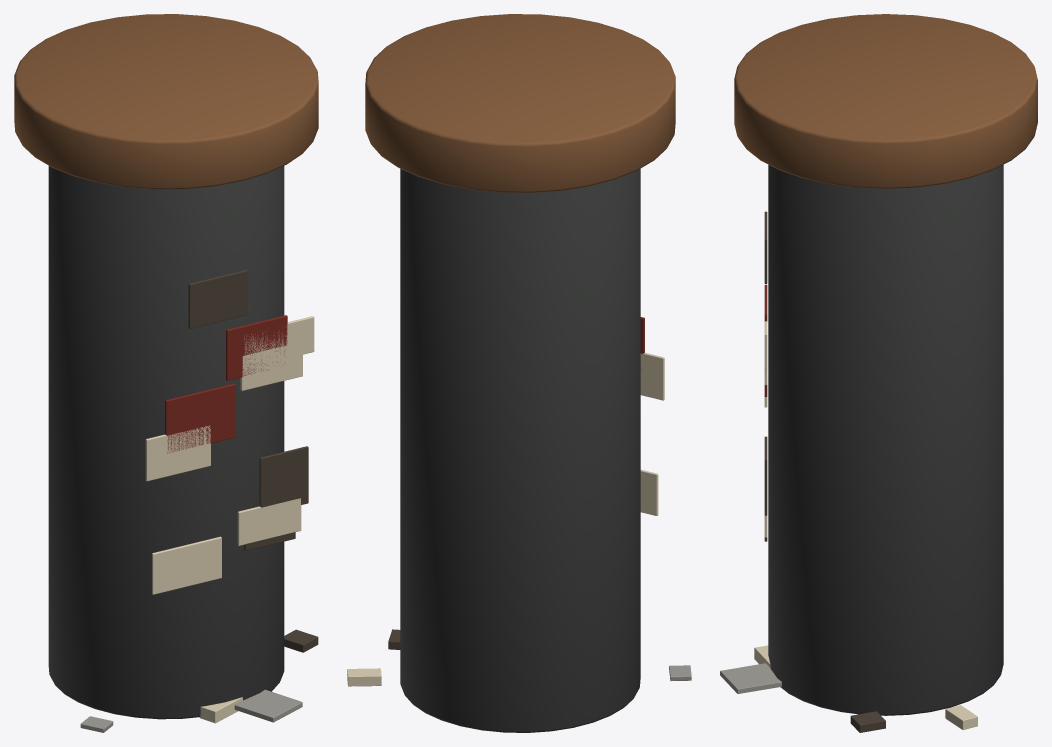
The model's file is dz_urban_ad_kiosk_premium.glb.
3 renders of one model, left to right at view 1: azimuth 30°, elevation 25°; view 2: azimuth 150°, elevation 25°; view 3: azimuth 270°, elevation 25°, orthographic. The views are drawn at different scales.
Parts seen in each view (by area): view 1: round_kiosk_column, kiosk_roof_cap, kiosk_torn_poster_7, kiosk_torn_poster_5, kiosk_torn_poster_6, kiosk_torn_poster_9, kiosk_torn_poster_2, kiosk_torn_poster_3, kiosk_torn_poster_0, kiosk_torn_poster_1, kiosk_torn_poster_4, kiosk_debris_01 (+2 smaller); view 2: round_kiosk_column, kiosk_roof_cap, kiosk_torn_poster_9, kiosk_torn_poster_5, kiosk_debris_02; view 3: round_kiosk_column, kiosk_roof_cap, kiosk_debris_01, kiosk_debris_00, kiosk_debris_02.
Part boxes in pixels (<box>): round_kiosk_column: <box>48,166,284,719</box>; kiosk_roof_cap: <box>14,14,318,189</box>; kiosk_torn_poster_7: <box>165,383,235,453</box>; kiosk_torn_poster_5: <box>152,536,221,594</box>; kiosk_torn_poster_6: <box>188,270,247,328</box>; kiosk_torn_poster_9: <box>145,425,210,481</box>; kiosk_torn_poster_2: <box>259,446,308,507</box>; kiosk_torn_poster_3: <box>226,315,287,380</box>; kiosk_torn_poster_0: <box>237,498,301,545</box>; kiosk_torn_poster_1: <box>240,341,302,390</box>; kiosk_torn_poster_4: <box>244,316,314,367</box>; kiosk_debris_01: <box>234,689,302,722</box>; round_kiosk_column: <box>400,168,640,732</box>; kiosk_roof_cap: <box>365,14,675,192</box>; kiosk_torn_poster_9: <box>640,352,664,400</box>; kiosk_torn_poster_5: <box>640,469,658,515</box>; kiosk_debris_02: <box>347,668,381,686</box>; round_kiosk_column: <box>768,164,1003,715</box>; kiosk_roof_cap: <box>734,14,1037,188</box>; kiosk_debris_01: <box>720,663,781,693</box>; kiosk_debris_00: <box>850,711,885,732</box>; kiosk_debris_02: <box>945,705,977,729</box>.
Bounding box in the file's own units: 1.27 × 2.66 × 1.3.
